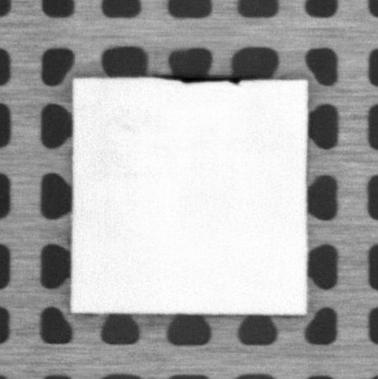DIE_BROKEN: (155, 74, 251, 86)
